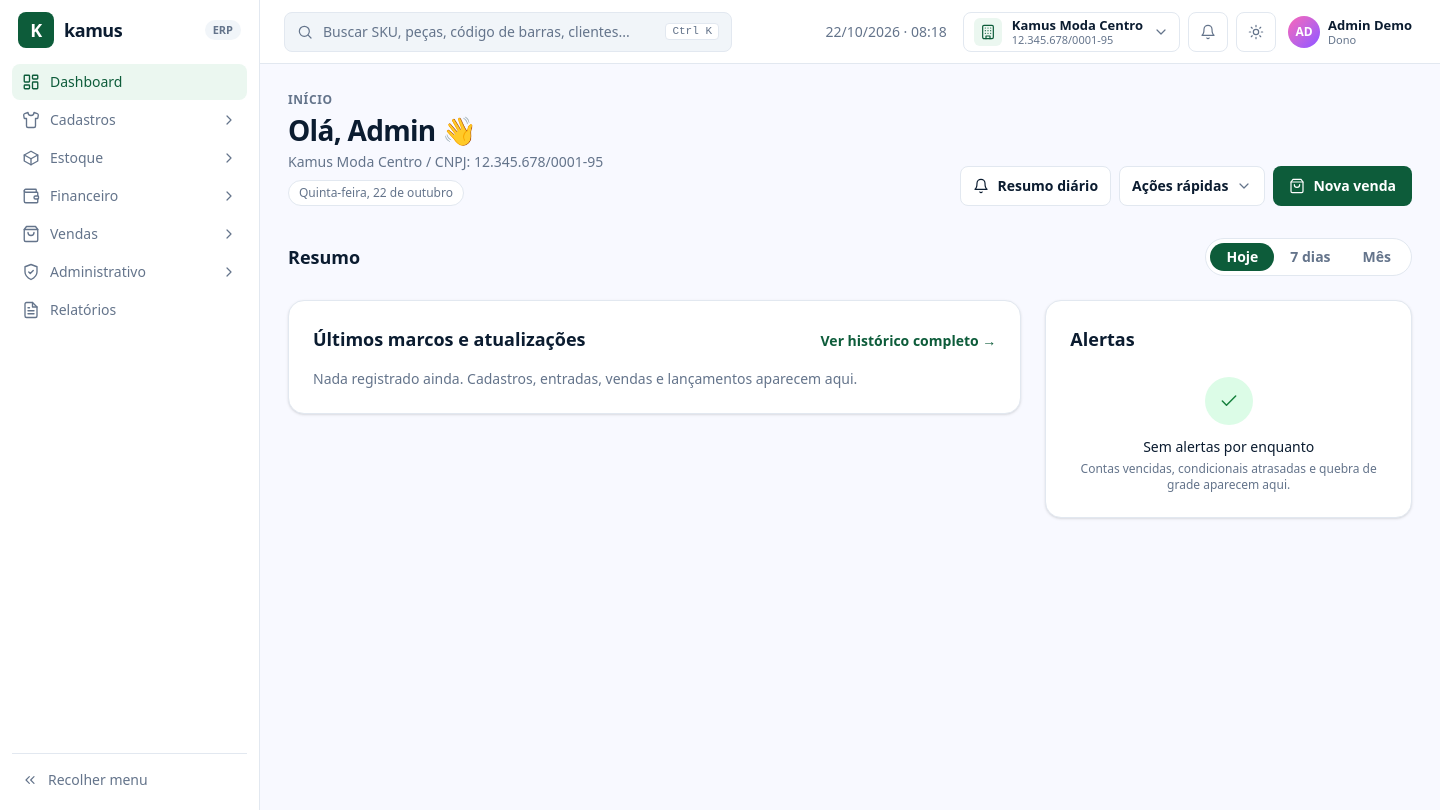
Test: Shell › menu do usuário mostra o perfil e permite sair
Expected: the heading "Olá, Admin 👋" is shown, [288,111,476,149]
Click the button with aria-label "Menu do usuário": [1350, 32] box [1284,12,1416,52]
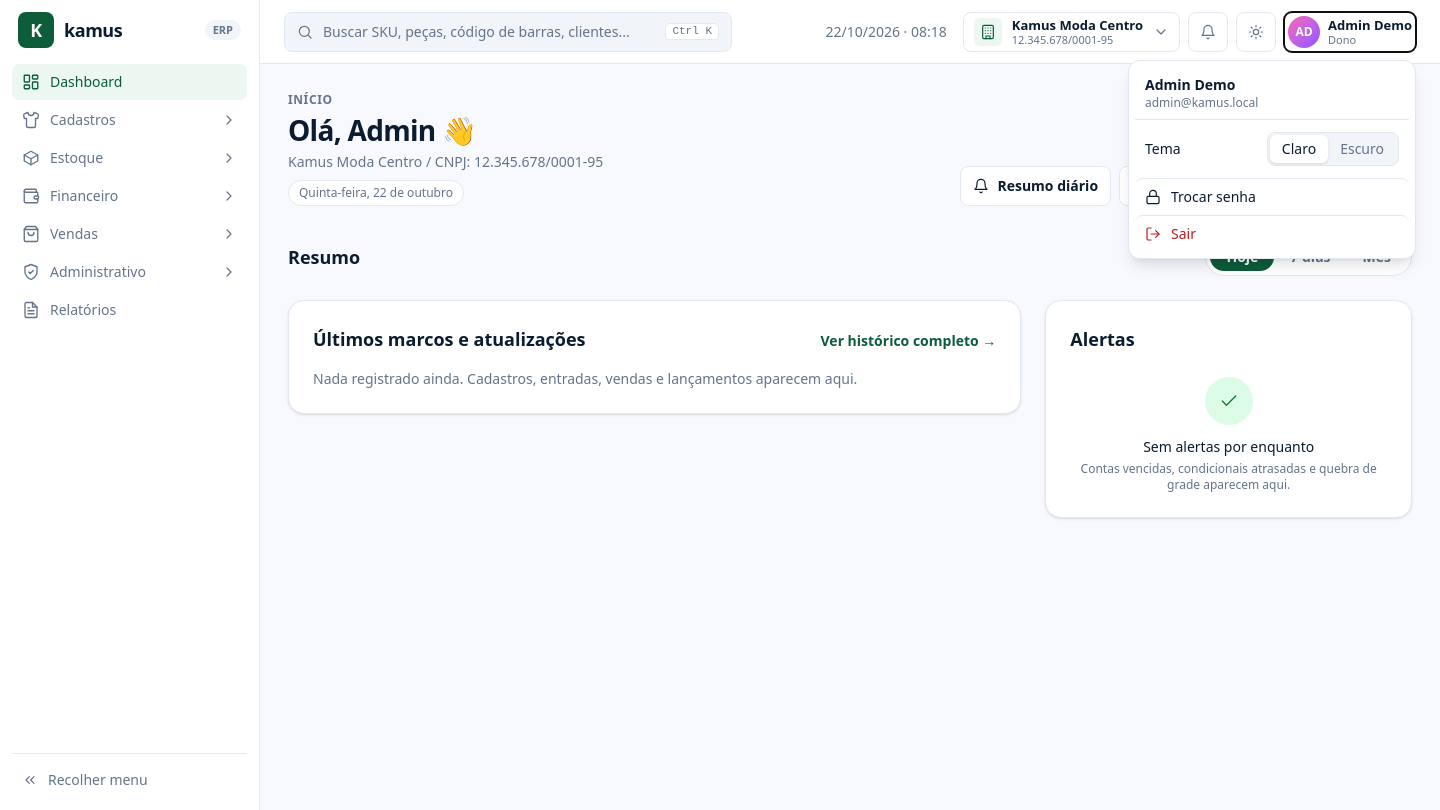
Now the text "admin@kamus.local" is shown, box [1145,94,1258,110]
Click the menu item "Sair": [1153, 234] box [1135,214,1409,252]
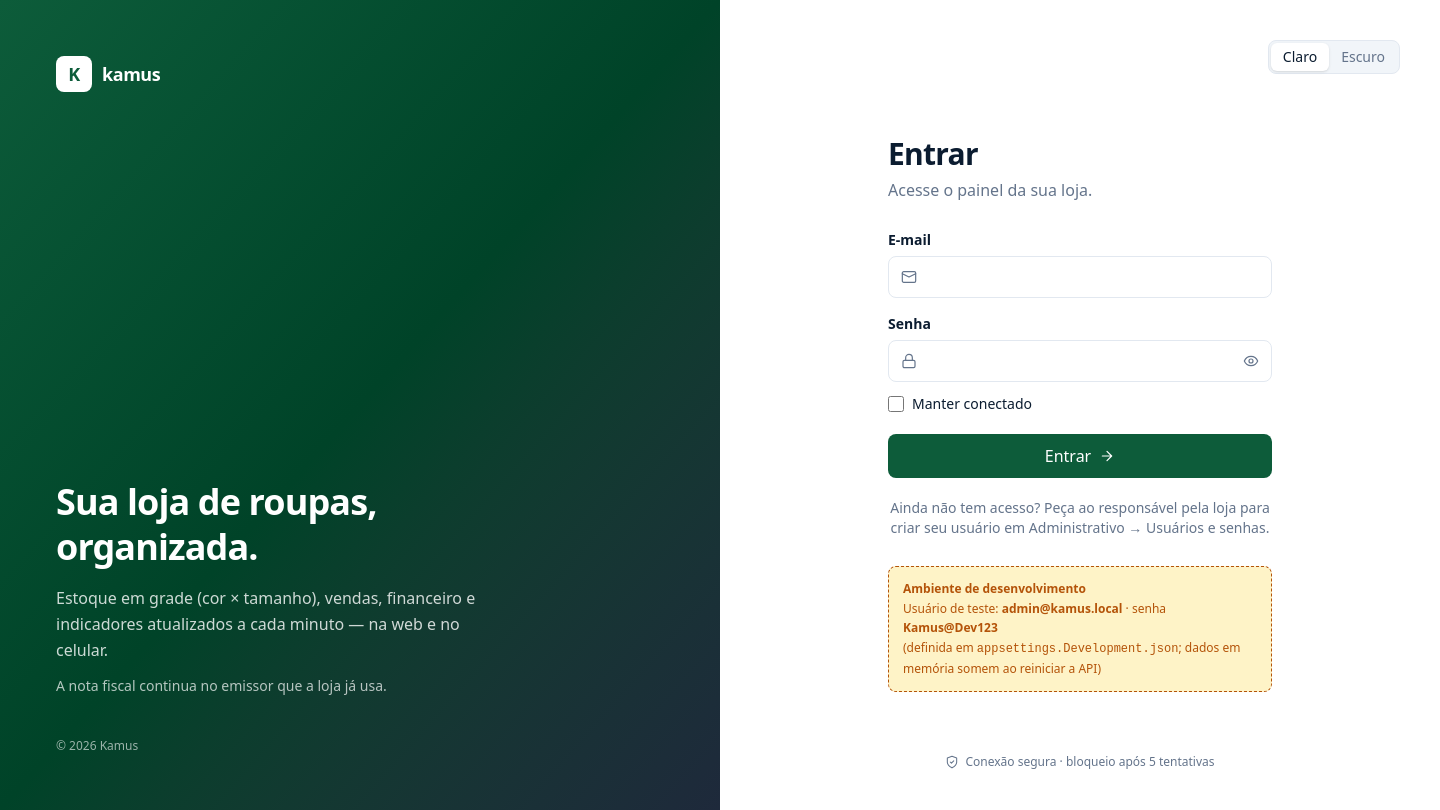
Now the heading "Entrar" is shown, box [888,133,978,174]
